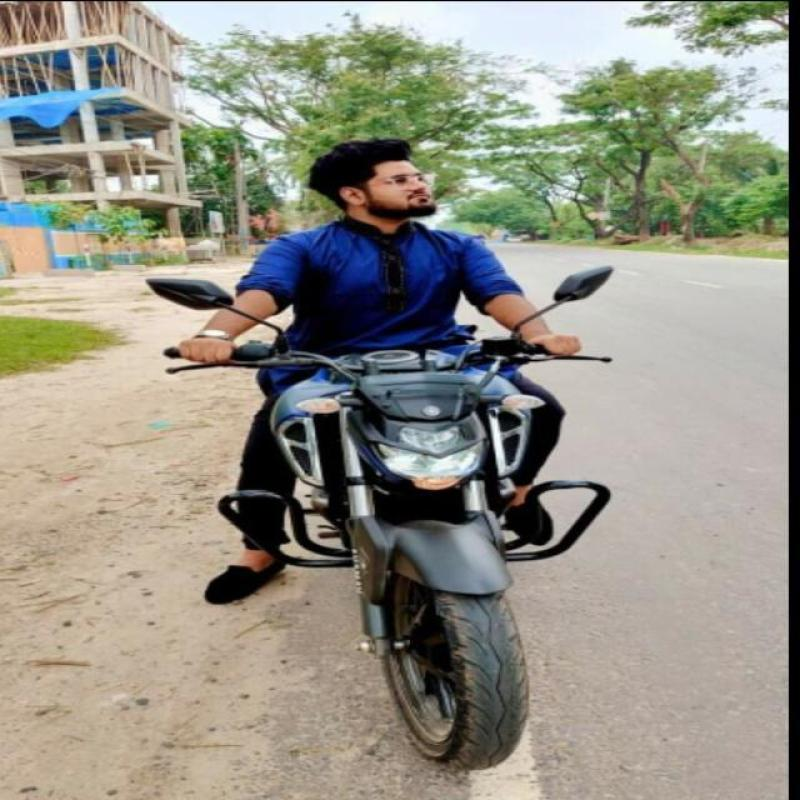nohelmet: (303, 138, 469, 233)
